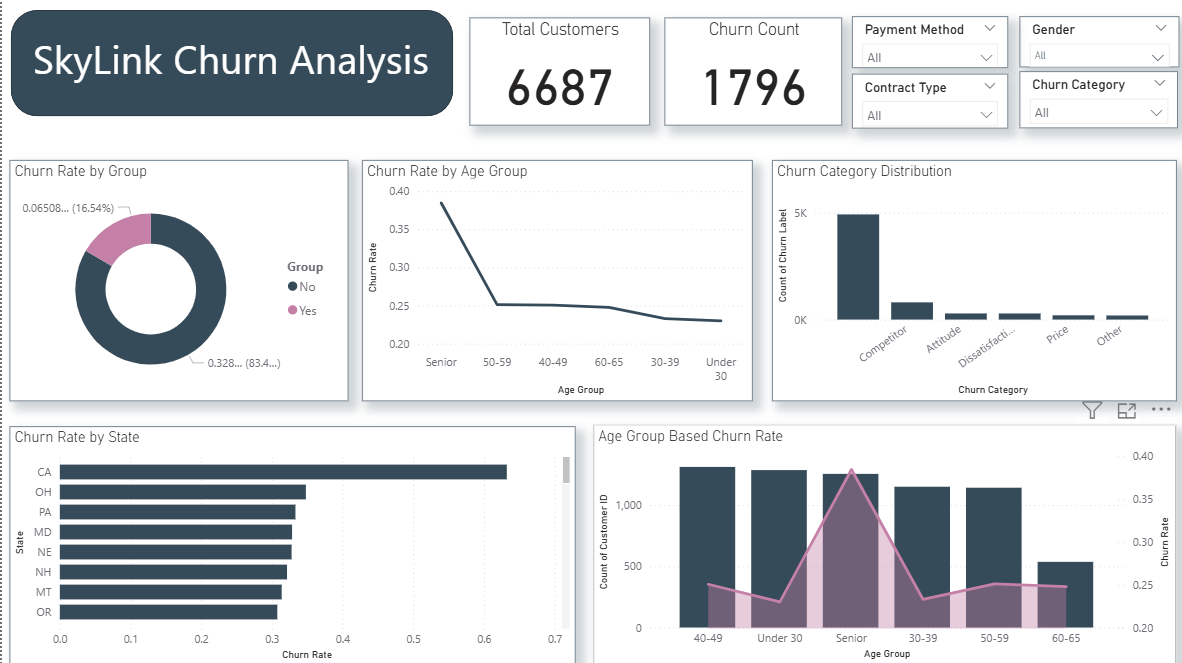

This screenshot's page, from the dashboard's own definition file:
{"tool":"powerbi","page":{"name":"Overview","canvas":[1280,720],"ordinal":0},"visuals":[{"type":"lineChart","fields":{"Y":["SkyLink - Dataset.Churn Rate"],"Category":["SkyLink - Dataset.Age Group"]},"box":[389.7,172.9,422.6,260.7],"z":0},{"type":"clusteredBarChart","fields":{"Y":["SkyLink - Dataset.Churn Rate"],"Category":["SkyLink - Dataset.State"]},"box":[8.2,460.6,611.7,259],"z":1000},{"type":"card","title":"Total Customers","fields":{"Values":["CountNonNull(SkyLink - Dataset.Customer ID)"]},"box":[505,19.2,194.9,116.6],"z":2000},{"type":"card","title":"Churn Count","fields":{"Values":["SkyLink - Dataset.Churn Count"]},"box":[716.3,19.2,192.1,116.6],"z":3000},{"type":"lineStackedColumnComboChart","title":"Age Group Based Churn Rate","fields":{"Category":["SkyLink - Dataset.Age Group"],"Y":["CountNonNull(SkyLink - Dataset.Customer ID)"],"Y2":["SkyLink - Dataset.Churn Rate"]},"box":[639.9,459.4,630.5,260.2],"z":4000},{"type":"slicer","fields":{"Values":["SkyLink - Dataset.Gender"]},"box":[1100.5,17.8,172.9,54.9],"z":5000},{"type":"slicer","fields":{"Values":["SkyLink - Dataset.Payment Method"]},"box":[919.4,17.8,168.8,56.3],"z":6000},{"type":"slicer","fields":{"Values":["SkyLink - Dataset.Contract Type"]},"box":[919.4,79.6,168.8,59],"z":7000},{"type":"donutChart","fields":{"Category":["SkyLink - Dataset.Group"],"Y":["SkyLink - Dataset.Churn Rate"]},"box":[8.2,172.9,366.4,260.7],"z":8000},{"type":"columnChart","title":" Churn Category Distribution","fields":{"Category":["SkyLink - Dataset.Churn Category"],"Y":["CountNonNull(SkyLink - Dataset.Churn Label)"]},"box":[832.9,172.9,437.7,260.7],"z":9000},{"type":"shape","box":[9.5,10.8,478.4,114.9],"z":10000},{"type":"textbox","box":[28.8,28.8,459.7,78.2],"z":11000},{"type":"slicer","fields":{"Values":["SkyLink - Dataset.Churn Category"]},"box":[1100.5,76.8,171.5,61.7],"z":12000}]}

Visuals, with their boxes in screenshot pixels (x1, y1, x2, y2), scaled from the page's 1280x720 canvas onto the 1182x663 screenshot:
lineChart - SkyLink - Dataset.Churn Rate x SkyLink - Dataset.Age Group: 360, 159, 750, 399
clusteredBarChart - SkyLink - Dataset.Churn Rate x SkyLink - Dataset.State: 8, 424, 572, 662
"Total Customers" card: 466, 18, 646, 125
"Churn Count" card: 661, 18, 839, 125
"Age Group Based Churn Rate" lineStackedColumnComboChart: 591, 423, 1173, 662
slicer - SkyLink - Dataset.Gender: 1016, 16, 1176, 67
slicer - SkyLink - Dataset.Payment Method: 849, 16, 1005, 68
slicer - SkyLink - Dataset.Contract Type: 849, 73, 1005, 128
donutChart - SkyLink - Dataset.Group x SkyLink - Dataset.Churn Rate: 8, 159, 346, 399
" Churn Category Distribution" columnChart: 769, 159, 1173, 399
shape: 9, 10, 451, 116
textbox: 27, 27, 451, 99
slicer - SkyLink - Dataset.Churn Category: 1016, 71, 1175, 128
